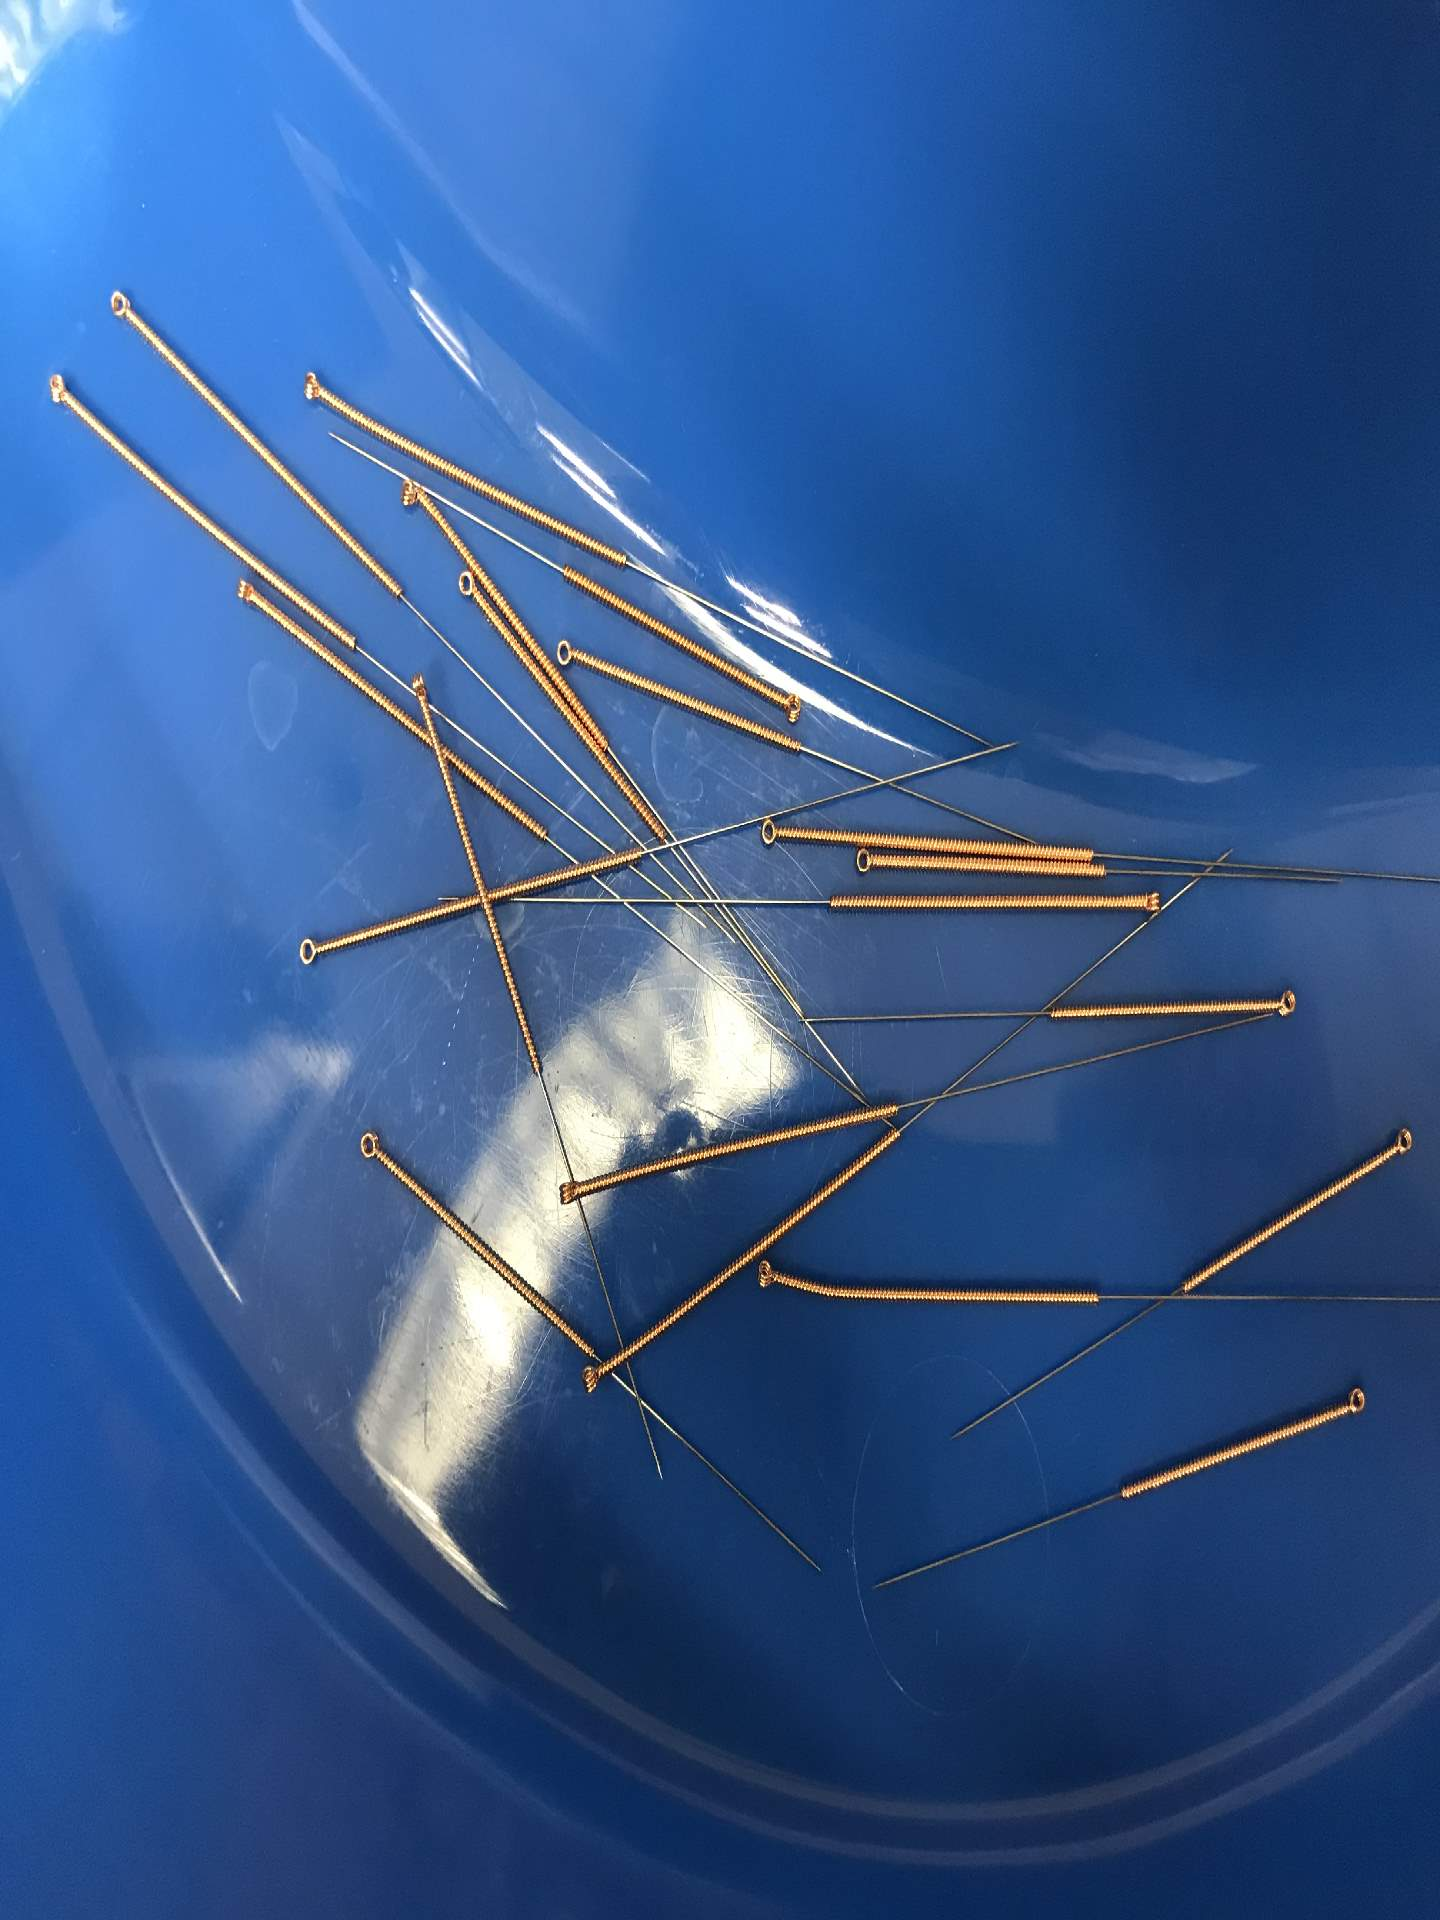needle: (287, 925, 334, 971), (1265, 980, 1308, 1028), (351, 1123, 392, 1175), (293, 358, 333, 408), (38, 364, 77, 413), (225, 571, 266, 615), (749, 1253, 788, 1299), (101, 280, 139, 327), (1336, 1377, 1373, 1424), (844, 841, 886, 881), (1383, 1120, 1420, 1166), (549, 630, 588, 673), (549, 1173, 591, 1212), (749, 810, 788, 853), (1130, 881, 1169, 924), (771, 683, 809, 724), (402, 664, 436, 709), (573, 1358, 610, 1398), (393, 473, 428, 514), (451, 565, 481, 608)
